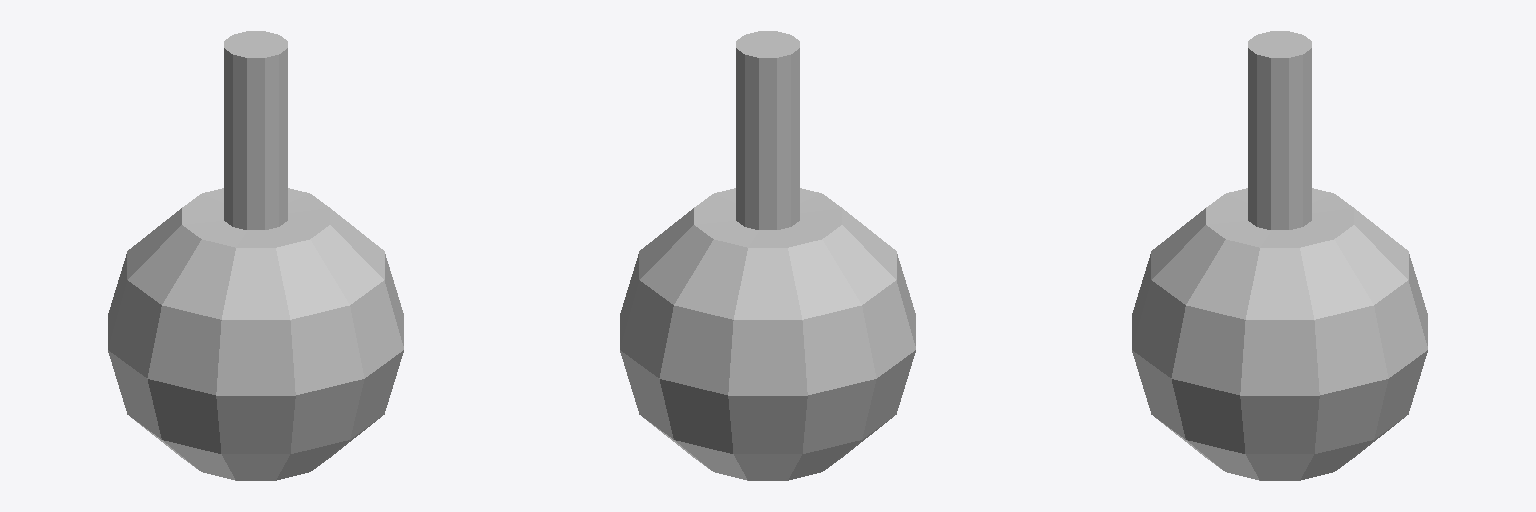
The model's file is Potion_Bottle_1_Hole.obj.
3 views of the same model, side by side, from view 1: azimuth 30°, elevation 25°; view 2: azimuth 150°, elevation 25°; view 3: azimuth 270°, elevation 25° (orthographic).
Parts seen in each view (by area): view 1: Body (Hole); view 2: Body (Hole); view 3: Body (Hole).
Part boxes in pixels (x1,y1,x2,y2): Body (Hole): (108, 31, 403, 480); Body (Hole): (620, 31, 915, 480); Body (Hole): (1132, 31, 1427, 480).
Bounding box in the file's own units: 0.875 × 1.38 × 0.875.